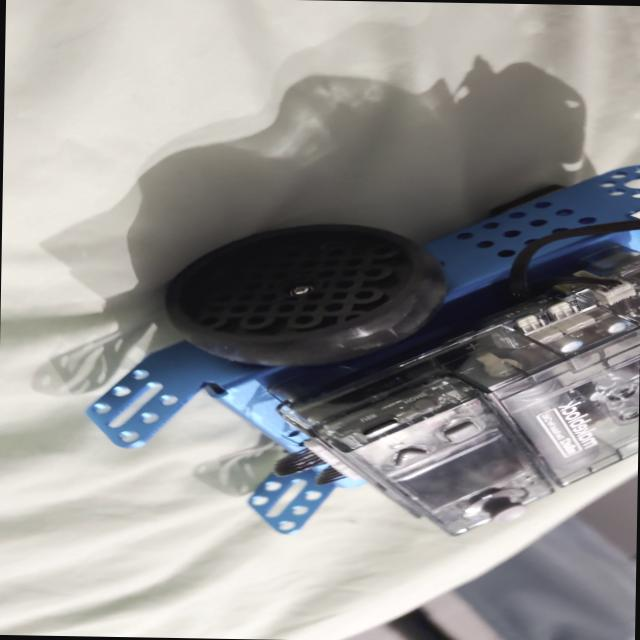mbot-detection: (73, 118, 640, 551)
